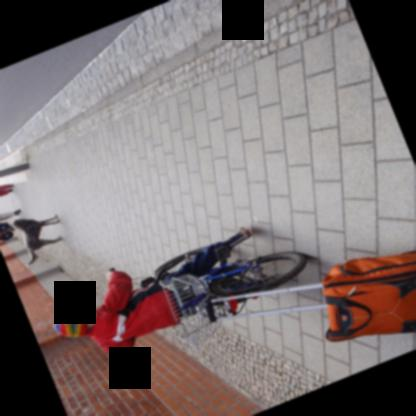suitcase: (203, 249, 416, 342)
